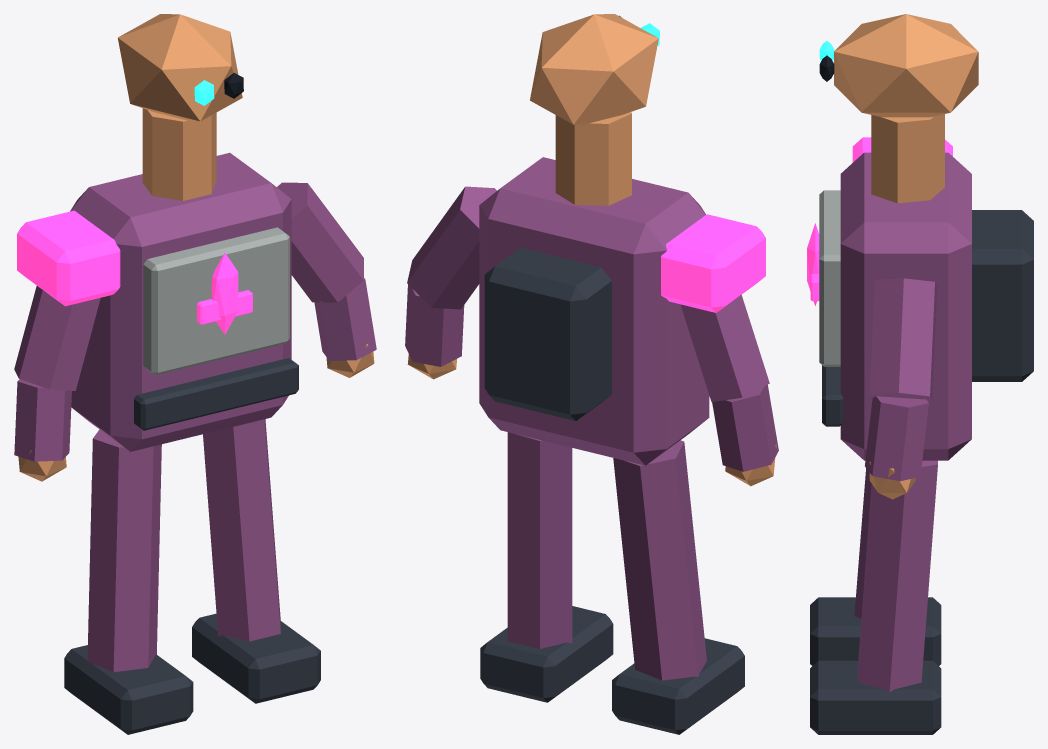
The model's file is npcs_035_seed11.glb.
The picture shows the model from 3 angles, left to right: view 1: azimuth 30°, elevation 25°; view 2: azimuth 150°, elevation 25°; view 3: azimuth 270°, elevation 25°; orthographic projection. The views are drawn at different scales.
Visible parts, largest first — view 1: npcs_035_seed11; view 2: npcs_035_seed11; view 3: npcs_035_seed11.
Part boxes in pixels (bbox=[...]): npcs_035_seed11: bbox=[14, 14, 376, 734]; npcs_035_seed11: bbox=[405, 14, 778, 734]; npcs_035_seed11: bbox=[807, 14, 1033, 734].
Size of the model in its own units: 1.23 by 2.2 by 0.6671.
